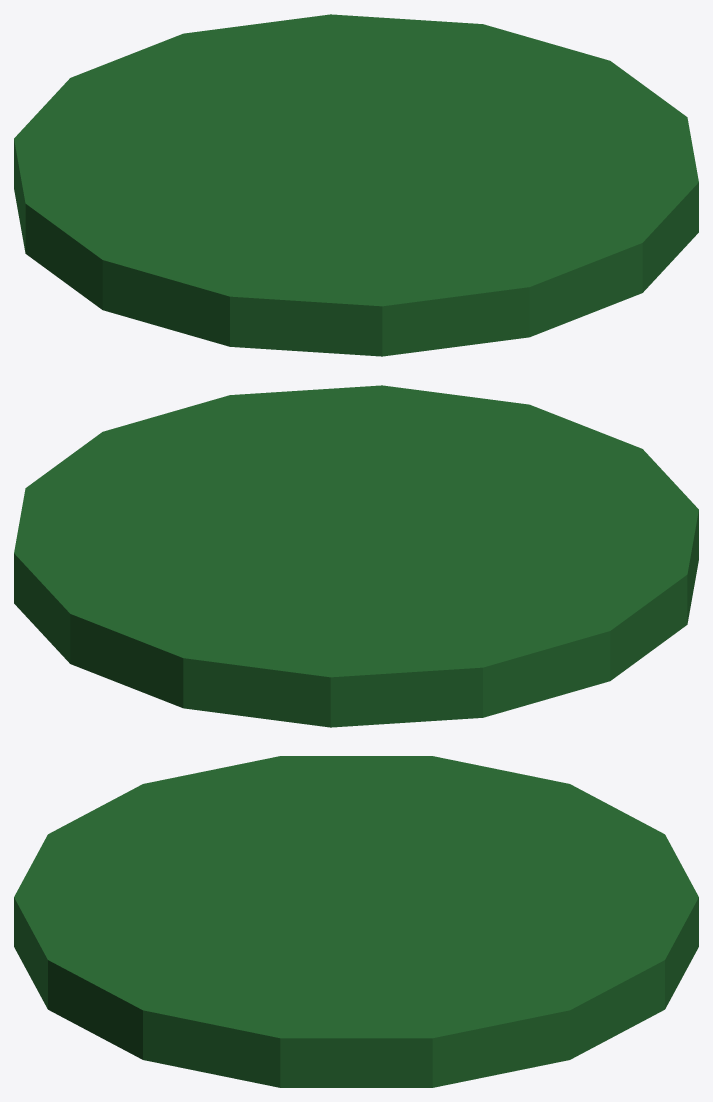
The model's file is lily_pad.obj.
3 views of the same model, one above another, from view 1: azimuth 30°, elevation 25°; view 2: azimuth 150°, elevation 25°; view 3: azimuth 270°, elevation 25° (orthographic).
Parts seen in each view (by area): view 1: LilyPad; view 2: LilyPad; view 3: LilyPad.
Boxes of the visible parts, x1,y1,x2,y2 form: LilyPad: (14,14,698,356); LilyPad: (14,385,698,727); LilyPad: (14,756,698,1087).
Bounding box in the file's own units: 1.95 × 0.16 × 2.
